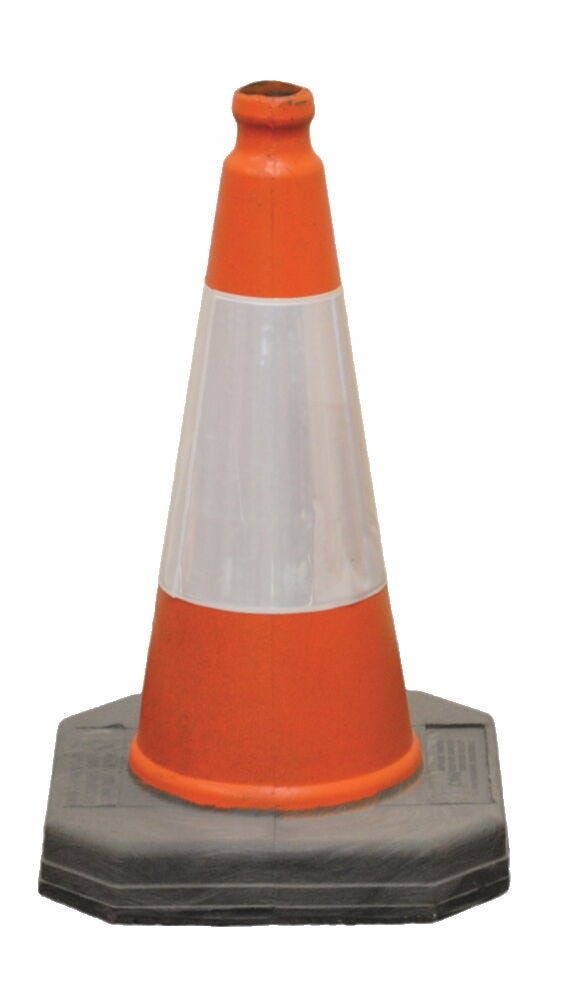Road_cone: (32, 73, 521, 932)
